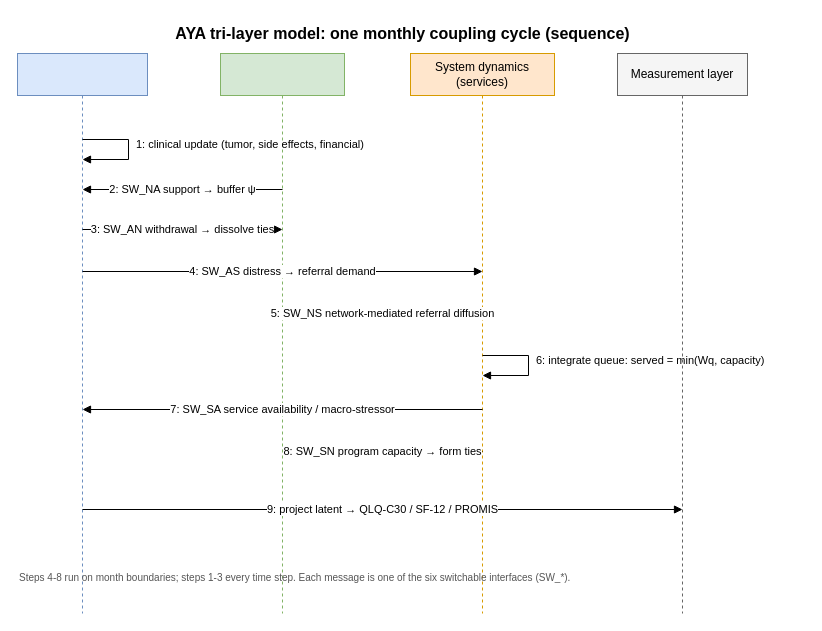
The diagram is 822 pixels wide and 631 high, and some of its shapes have lost their labels. The box of each missing label's shape, as (x1, y1, x2, y2) in pixels:
ABM (patient agents): (16, 52, 148, 614)
Network (support ties): (220, 52, 344, 614)
